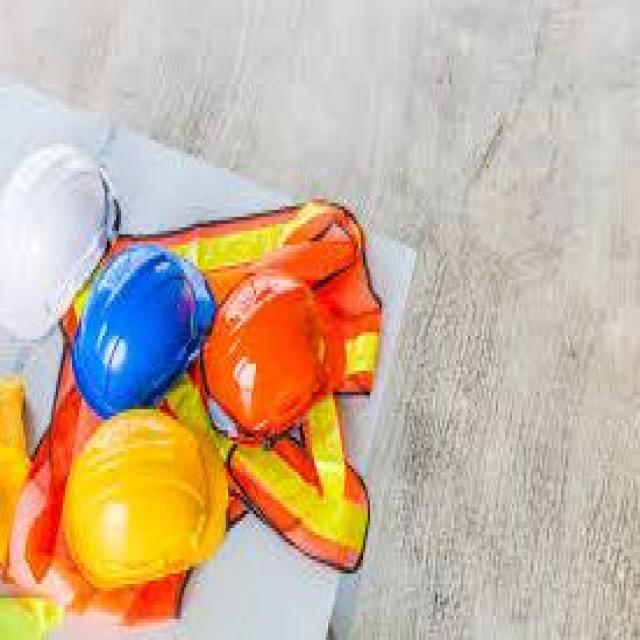Reflective-Jacket: (91, 185, 386, 427), (198, 248, 361, 525), (200, 269, 326, 427)
Safety-Helmet: (49, 406, 237, 598), (70, 241, 214, 420)
